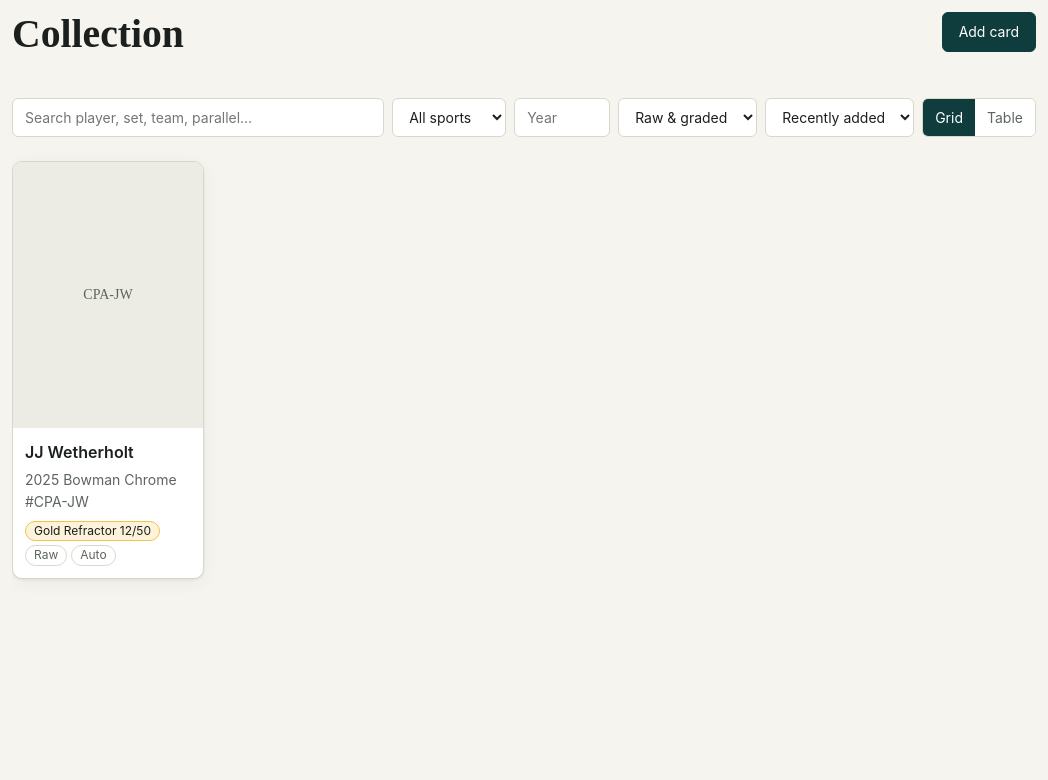
Test case: CollectionPage › shows cards in a grid, then a table
The image size is (1048, 780).
Expected: the text "JJ Wetherholt" is shown, [25,442,134,462]
Expected: the text "Gold Refractor 12/50" is shown, [25,520,160,541]
What coordinates should you click on to do the following:
click the button "Table"
I would click on:
 (1005, 117)
Its box is [975,99,1035,136].
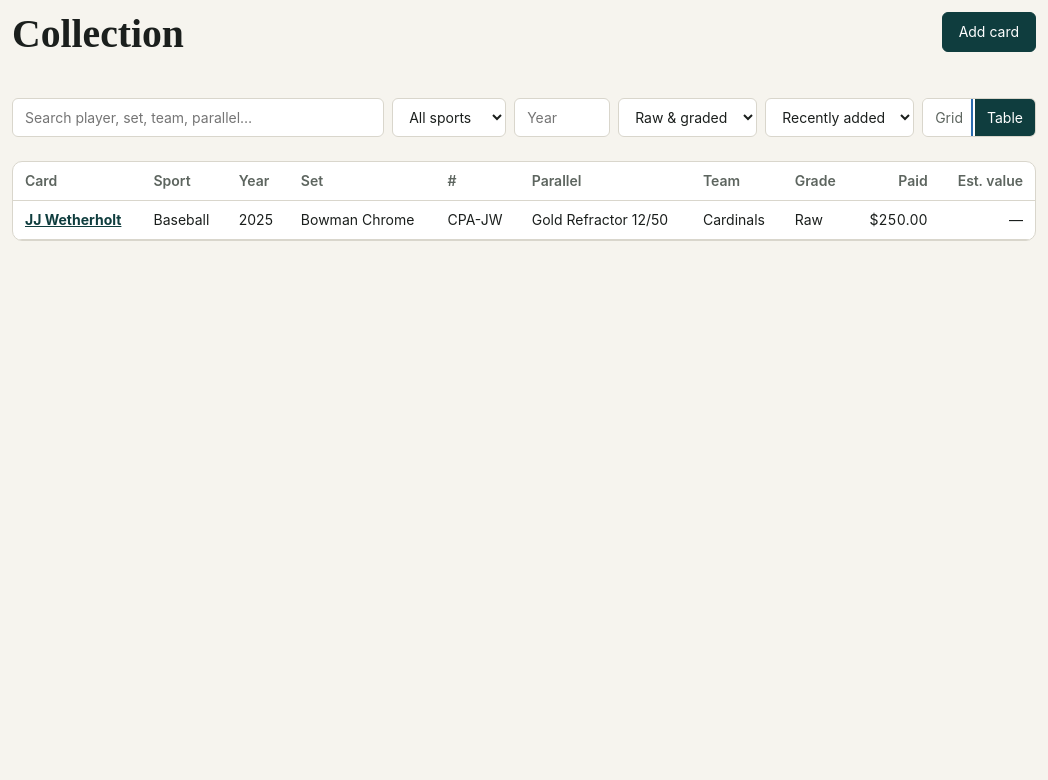
Expected: the table is shown, [13,162,1035,240]
Expected: the cell "$250.00" is shown, [852,200,940,239]
